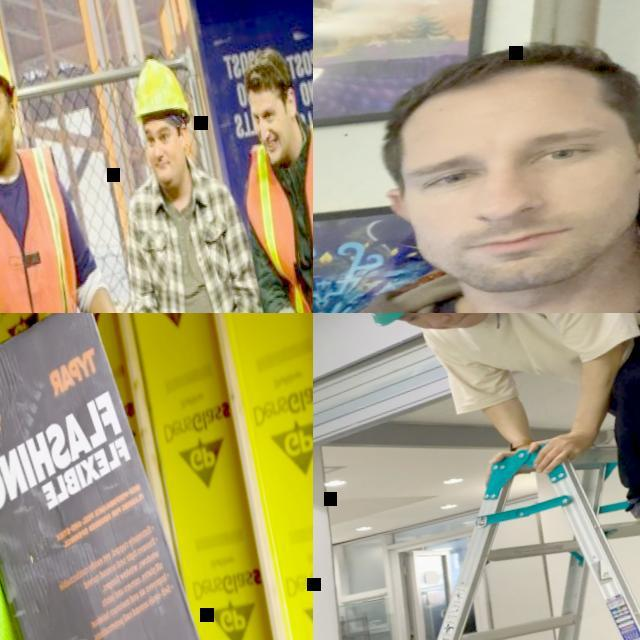helmet: (128, 52, 194, 122), (332, 313, 449, 334), (0, 33, 14, 102)
vest: (0, 317, 75, 640), (0, 132, 105, 313), (229, 113, 313, 313)
